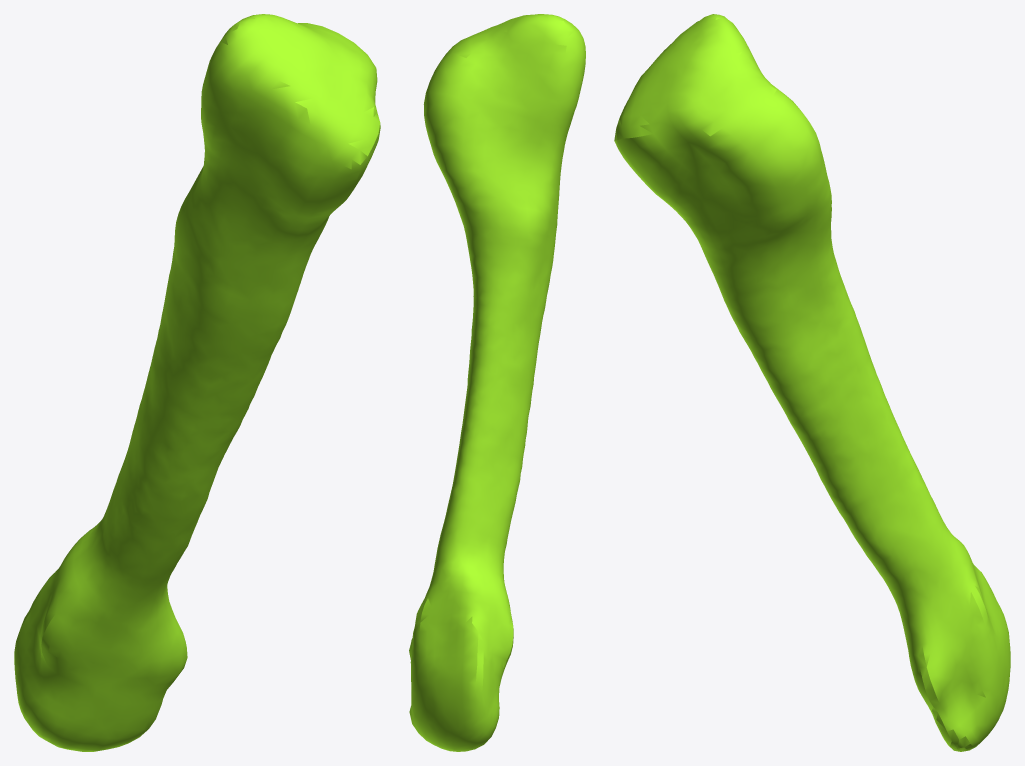
Rendered from Metatarsal_3.obj.
The picture shows the model from 3 angles, left to right: view 1: azimuth 30°, elevation 25°; view 2: azimuth 150°, elevation 25°; view 3: azimuth 270°, elevation 25°; orthographic projection. The views are drawn at different scales.
Visible parts, largest first — view 1: Object_0Metatarsal_3; view 2: Object_0Metatarsal_3; view 3: Object_0Metatarsal_3.
Boxes of the visible parts, <box> form: Object_0Metatarsal_3: <box>14,14,380,751</box>; Object_0Metatarsal_3: <box>409,14,585,751</box>; Object_0Metatarsal_3: <box>614,14,1010,751</box>.
Bounding box in the file's own units: 20.48 × 78.53 × 38.56.
